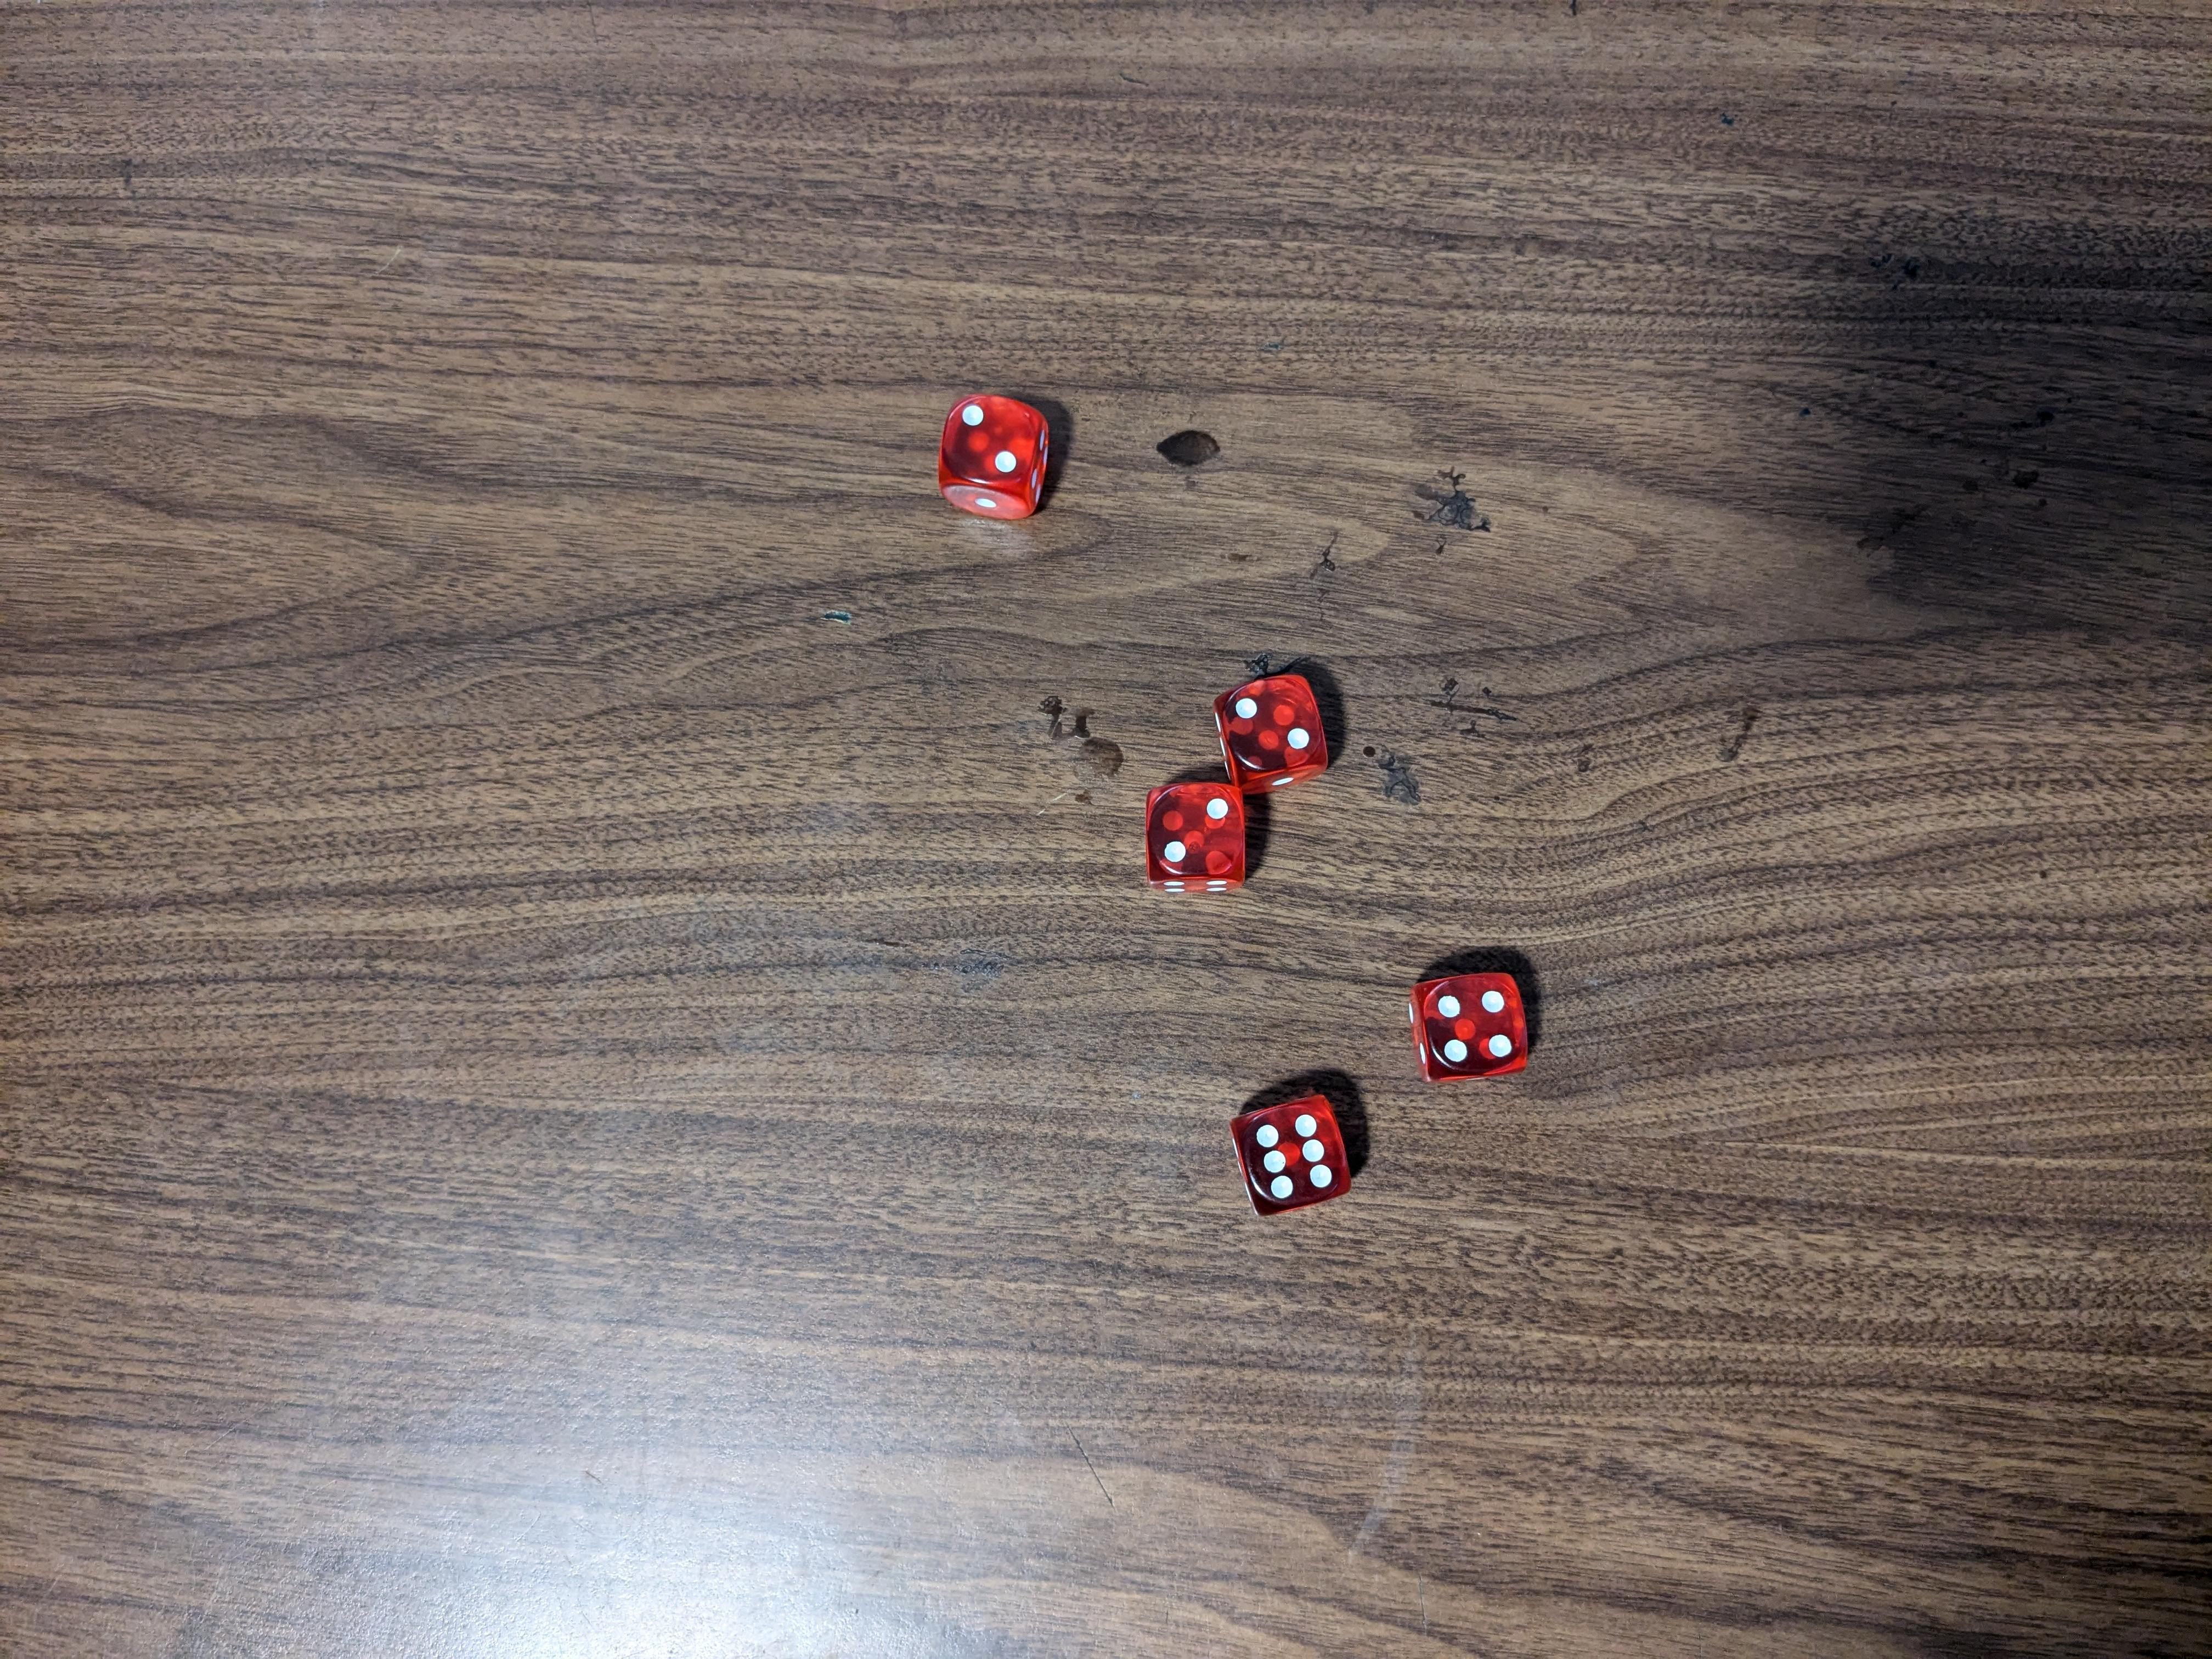four: (1407, 969, 1531, 1087)
six: (1233, 1094, 1357, 1220)
two: (1209, 662, 1336, 793), (937, 389, 1054, 523), (1141, 777, 1258, 885)
